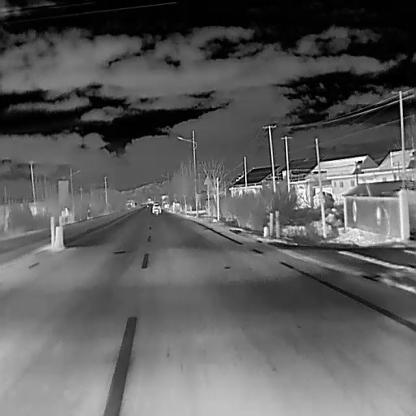car: (152, 202, 160, 214)
